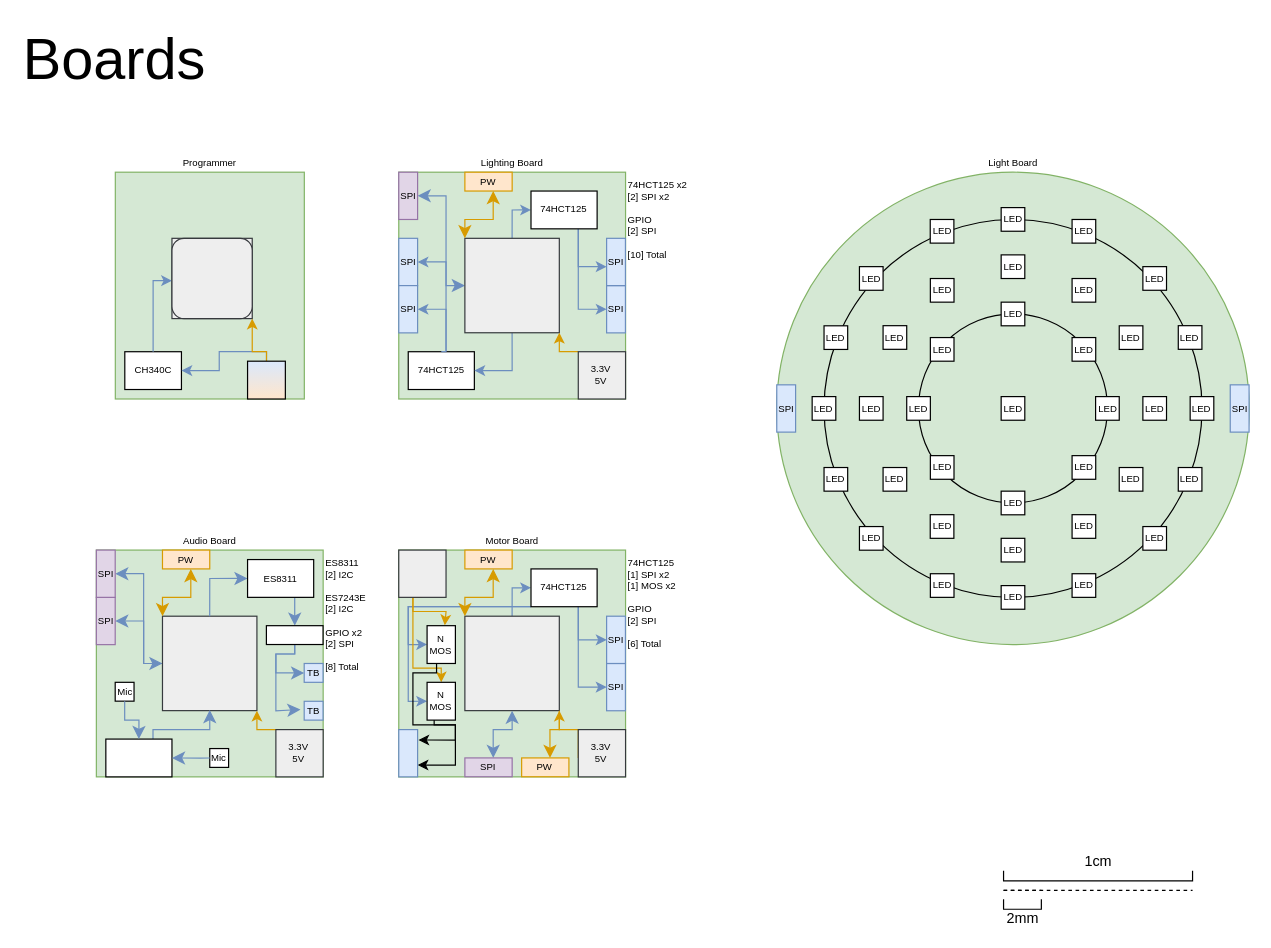
Some shapes in this 1271 by 948 pixel diagram are drawn without their labels. Here are the shapes that lost their labels. From the top down, the centre of each, then its label:
At point (265, 379): "USB-C".
At point (422, 573): "12V".
At point (294, 634): "PAM8403".
At point (138, 757): "ES7243E".
At point (408, 752): "HVI".
